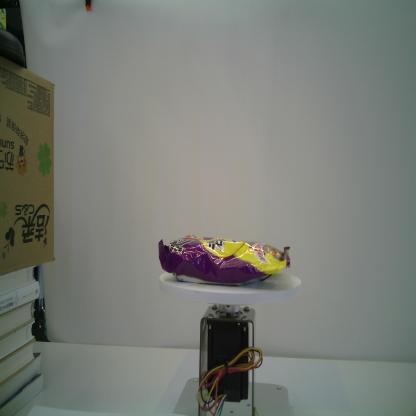Instant Noodles: (157, 233, 292, 287)
